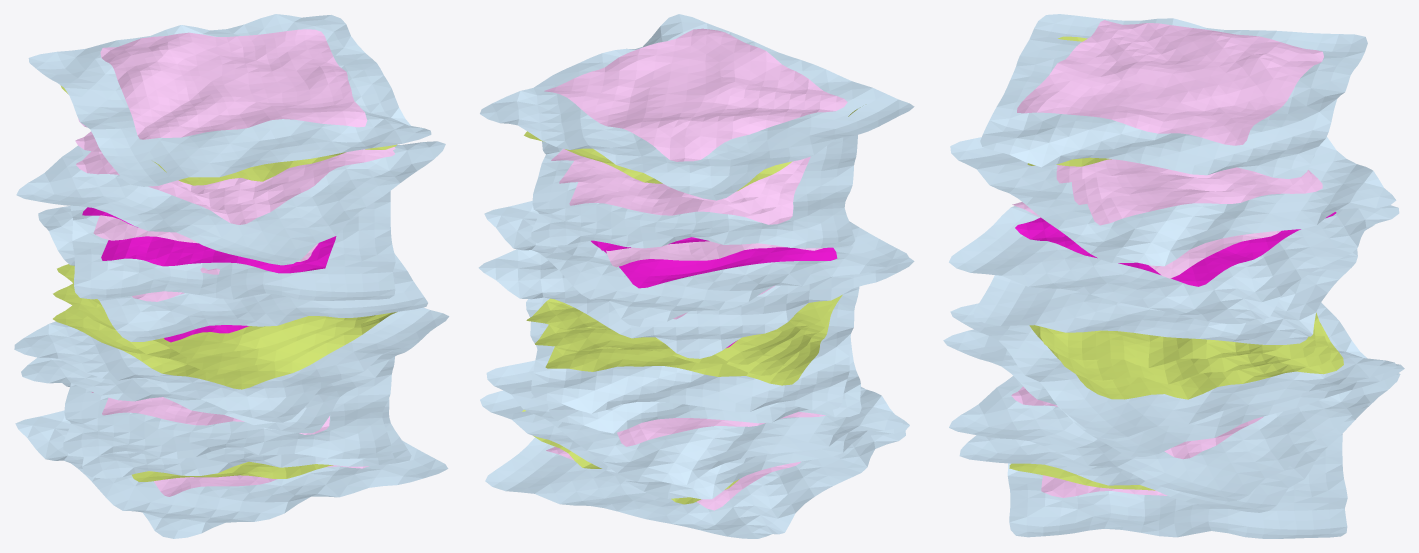
Rendered from Stack of papers high-poly ready.glb.
3 renders of one model, left to right at view 1: azimuth 30°, elevation 25°; view 2: azimuth 150°, elevation 25°; view 3: azimuth 270°, elevation 25°, orthographic. The views are drawn at different scales.
Parts seen in each view (by area): view 1: Stack of papers high-poly-Mat.1, Stack of papers high-poly-Mat.3, Stack of papers high-poly-Mat, Stack of papers high-poly-Mat.2; view 2: Stack of papers high-poly-Mat.1, Stack of papers high-poly-Mat.3, Stack of papers high-poly-Mat, Stack of papers high-poly-Mat.2; view 3: Stack of papers high-poly-Mat.1, Stack of papers high-poly-Mat.3, Stack of papers high-poly-Mat, Stack of papers high-poly-Mat.2.
Boxes of the visible parts, left/top/right/bottom form: Stack of papers high-poly-Mat.1: left=14, top=14, right=449, bottom=538; Stack of papers high-poly-Mat.3: left=75, top=29, right=395, bottom=496; Stack of papers high-poly-Mat: left=53, top=85, right=396, bottom=481; Stack of papers high-poly-Mat.2: left=82, top=207, right=336, bottom=342; Stack of papers high-poly-Mat.1: left=478, top=14, right=914, bottom=538; Stack of papers high-poly-Mat.3: left=544, top=28, right=847, bottom=510; Stack of papers high-poly-Mat: left=522, top=107, right=860, bottom=504; Stack of papers high-poly-Mat.2: left=591, top=237, right=837, bottom=347; Stack of papers high-poly-Mat.1: left=943, top=14, right=1404, bottom=538; Stack of papers high-poly-Mat.3: left=1011, top=20, right=1323, bottom=497; Stack of papers high-poly-Mat: left=1009, top=36, right=1343, bottom=490; Stack of papers high-poly-Mat.2: left=1015, top=212, right=1336, bottom=286.
Bounding box in the file's own units: 7.83 × 7.67 × 7.89.
